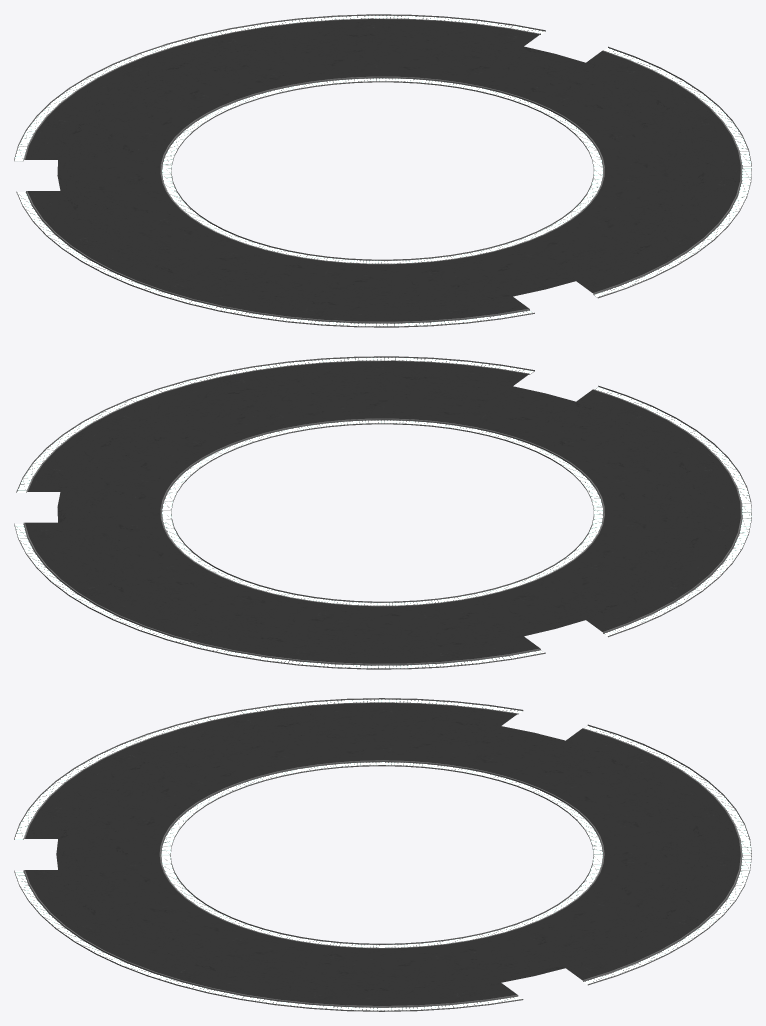
Rendered from CentralArea_GroundBottom.fbx.
The picture shows the model from 3 angles, top to bottom: view 1: azimuth 30°, elevation 25°; view 2: azimuth 150°, elevation 25°; view 3: azimuth 270°, elevation 25°; orthographic projection.
Parts seen in each view (by area): view 1: CentralArea_GroundBottom; view 2: CentralArea_GroundBottom; view 3: CentralArea_GroundBottom.
Boxes of the visible parts, left/top/right/bottom form: CentralArea_GroundBottom: left=14, top=14, right=751, bottom=327; CentralArea_GroundBottom: left=14, top=356, right=751, bottom=669; CentralArea_GroundBottom: left=14, top=698, right=751, bottom=1011.
Bounding box in the file's own units: 59.8 × 0.1022 × 59.66.
